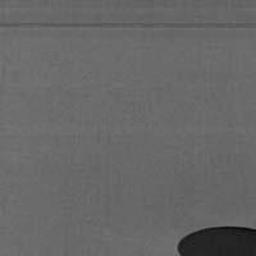Punching: (178, 225, 256, 256)
